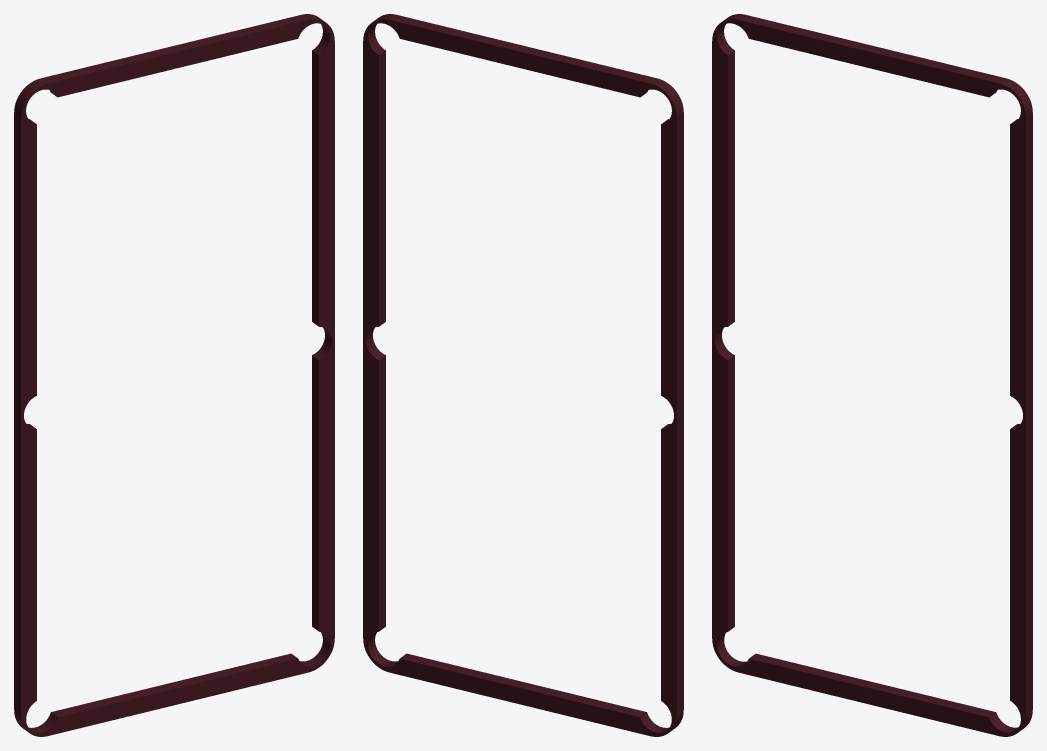
File: Part Studio 1 - Part 10.obj
The picture shows the model from 3 angles, left to right: view 1: azimuth 30°, elevation 25°; view 2: azimuth 150°, elevation 25°; view 3: azimuth 330°, elevation 25°; orthographic projection.
Parts seen in each view (by area): view 1: mesh12, mesh14, mesh20, mesh0, mesh2, mesh4; view 2: mesh13, mesh14, mesh20, mesh0, mesh2, mesh4; view 3: mesh12, mesh18, mesh20, mesh6, mesh8, mesh4.
Boxes of the visible parts, bbox=[...] form: mesh12: bbox=[21, 19, 334, 736]; mesh14: bbox=[14, 112, 20, 714]; mesh20: bbox=[41, 14, 307, 83]; mesh0: bbox=[312, 50, 318, 326]; mesh2: bbox=[312, 355, 318, 631]; mesh4: bbox=[51, 653, 297, 716]; mesh13: bbox=[363, 19, 676, 736]; mesh14: bbox=[677, 112, 683, 714]; mesh20: bbox=[390, 14, 656, 83]; mesh0: bbox=[379, 50, 385, 326]; mesh2: bbox=[379, 355, 385, 631]; mesh4: bbox=[400, 653, 646, 716]; mesh12: bbox=[712, 19, 1025, 736]; mesh18: bbox=[1026, 112, 1032, 714]; mesh20: bbox=[739, 14, 1005, 83]; mesh6: bbox=[728, 355, 734, 631]; mesh8: bbox=[728, 50, 734, 326]; mesh4: bbox=[749, 653, 995, 717].
Size of the model in its own units: 0.1821 by 0.3621 by 0.007.
